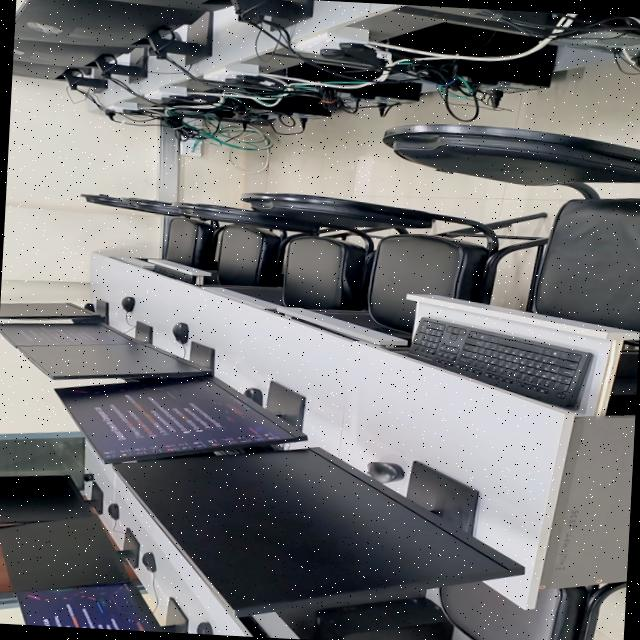Chair: (383, 123, 640, 331), (243, 193, 543, 332), (174, 203, 374, 309), (119, 197, 283, 286), (440, 581, 627, 640), (81, 194, 221, 269)
Cpu: (378, 20, 557, 94), (283, 60, 423, 106), (314, 597, 453, 640), (541, 11, 640, 55)
Keyboard: (410, 318, 592, 407), (151, 264, 195, 283), (239, 615, 271, 638)
Monitor: (114, 447, 524, 616), (55, 375, 307, 463), (14, 0, 213, 63), (0, 513, 141, 592), (16, 579, 186, 633), (19, 341, 215, 378), (0, 472, 104, 524), (115, 0, 313, 25), (0, 321, 152, 347), (13, 39, 143, 66), (12, 59, 110, 92), (0, 297, 109, 319)
Mouse: (366, 461, 404, 483), (172, 322, 189, 344), (243, 387, 262, 405), (142, 551, 156, 572), (197, 622, 213, 635), (121, 296, 134, 311), (107, 503, 119, 519), (84, 302, 95, 311), (84, 473, 94, 481)
